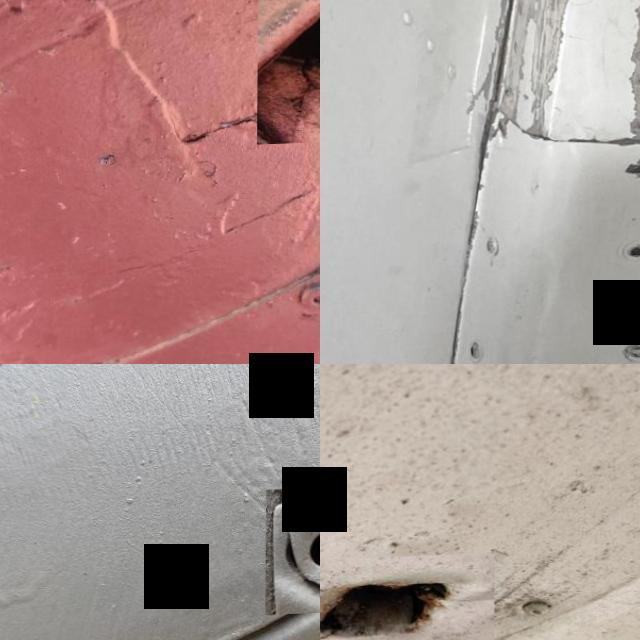Crack: (428, 0, 583, 159), (320, 556, 495, 640), (257, 0, 320, 147)
Missing_Fastener: (265, 488, 320, 617), (466, 341, 483, 364), (623, 245, 640, 266)
